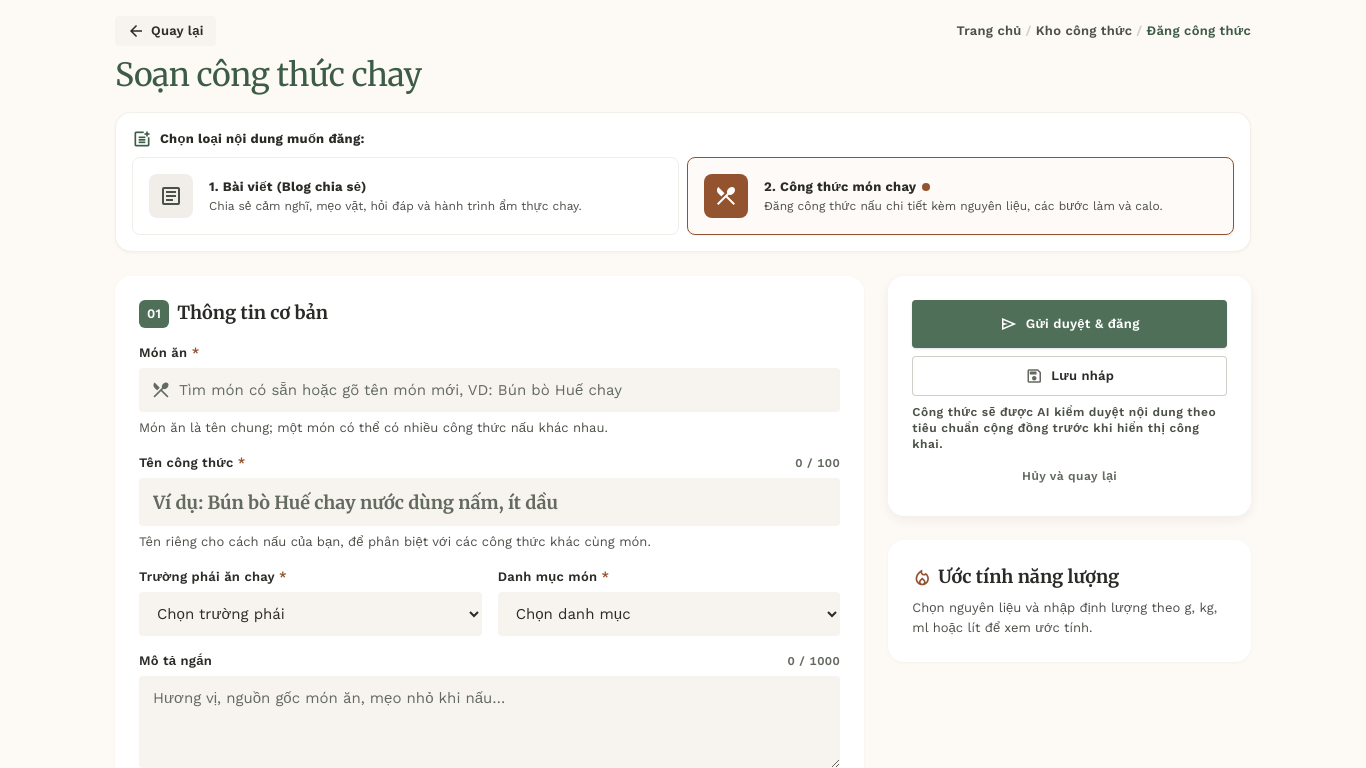
Test: RecipeEditor (SCR-13) › Thành viên › món ăn và tên công thức là hai trường riêng; chọn món có sẵn thì điền sẵn danh mục của món
Type "đậu phụ" into the dropdown labelled "Món ăn *" at {"x": 490, "y": 390}, box [139, 368, 840, 412]
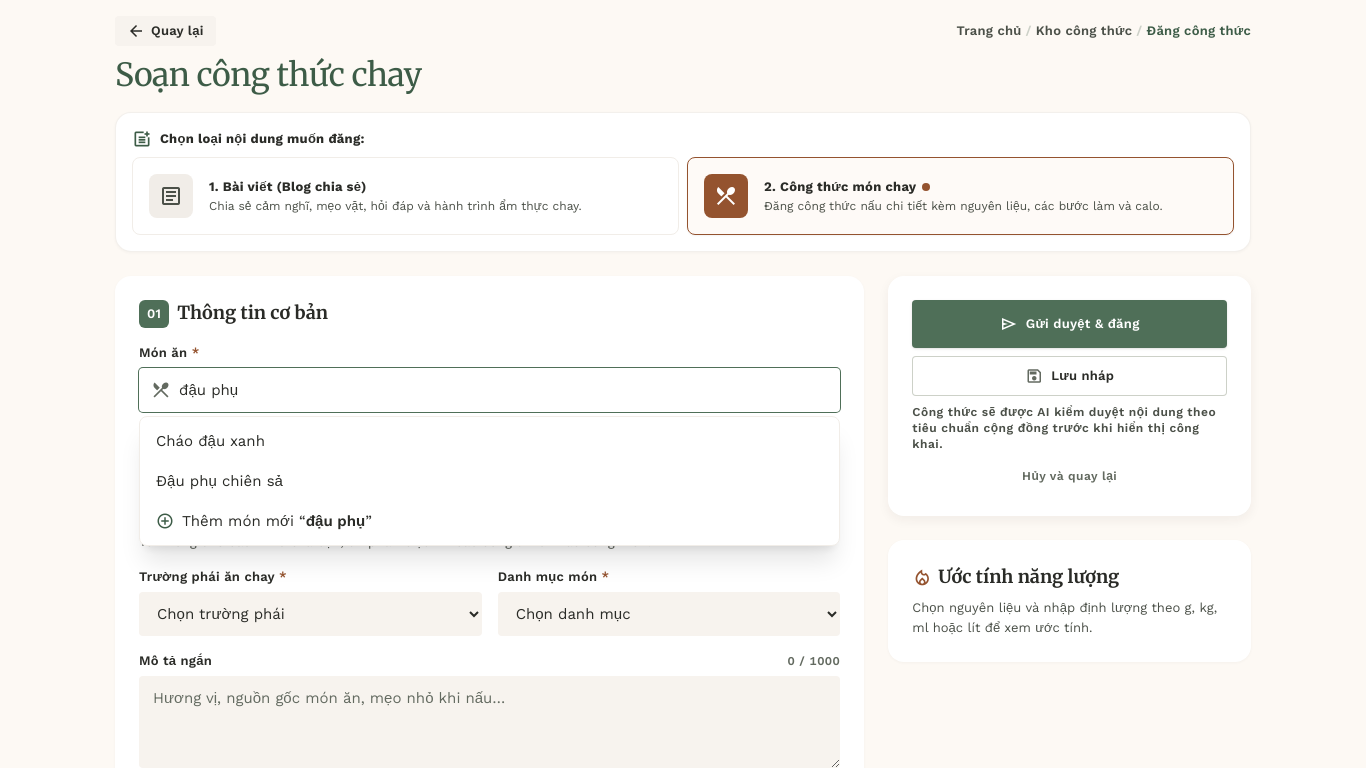
Click the option "Đậu phụ chiên sả" at {"x": 219, "y": 481}, box [156, 472, 283, 490]
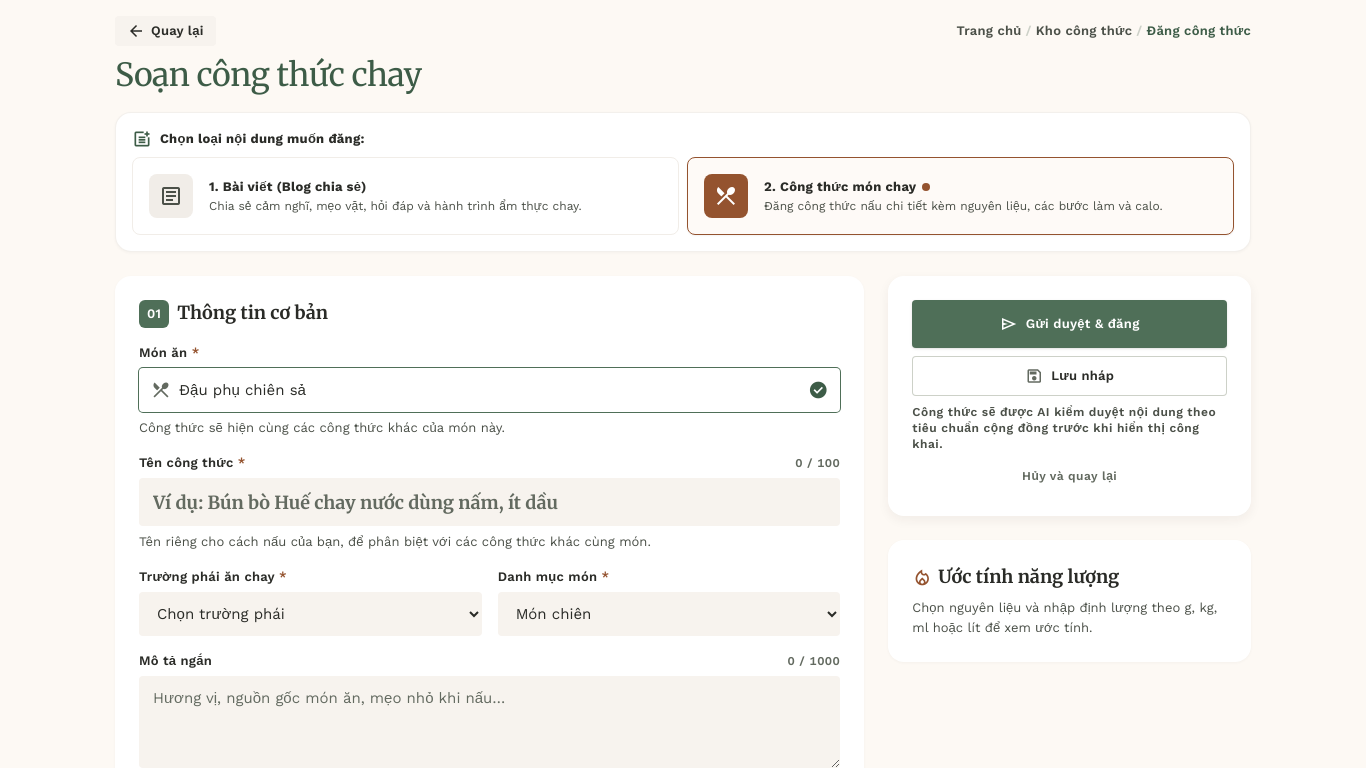
Check: the dropdown labelled "Món ăn *" holds "Đậu phụ chiên sả", box [139, 368, 840, 412]
Check: the text "Công thức sẽ hiện cùng các công thức khác của món này." is shown, box [139, 420, 505, 435]
Check: the dropdown labelled "Danh mục món *" shows "Món chiên", box [498, 592, 840, 636]
